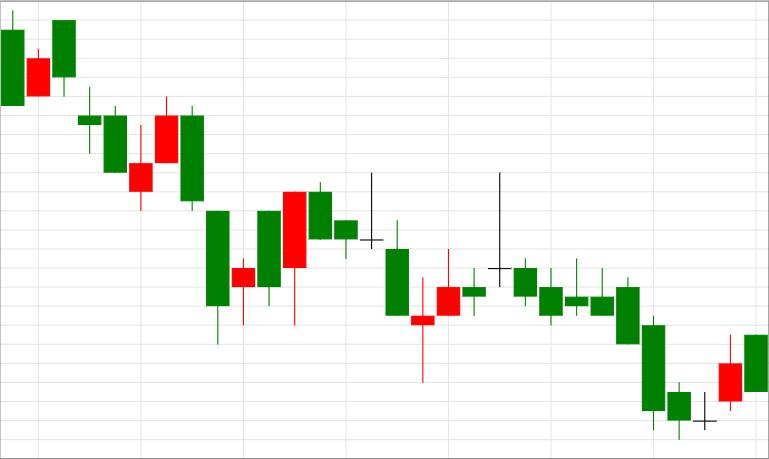inverse_hammer_rise: (52, 20, 153, 210)
morning_star_rise: (514, 257, 743, 440), (309, 173, 461, 382)
